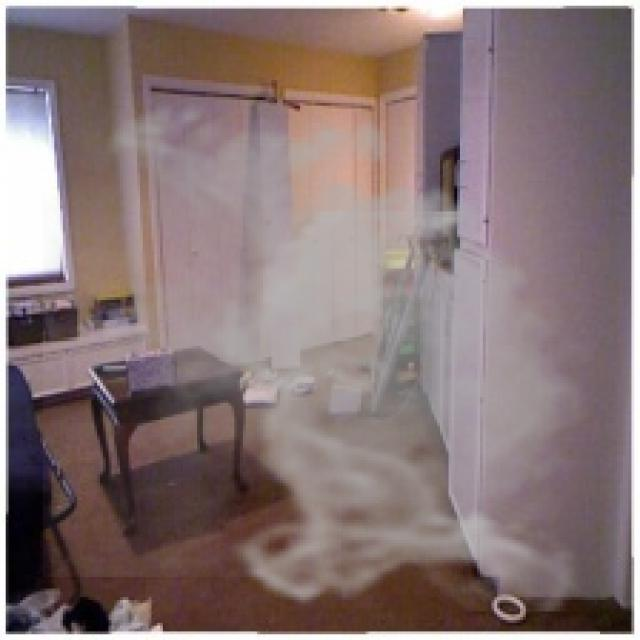smoke: (43, 89, 606, 612)
